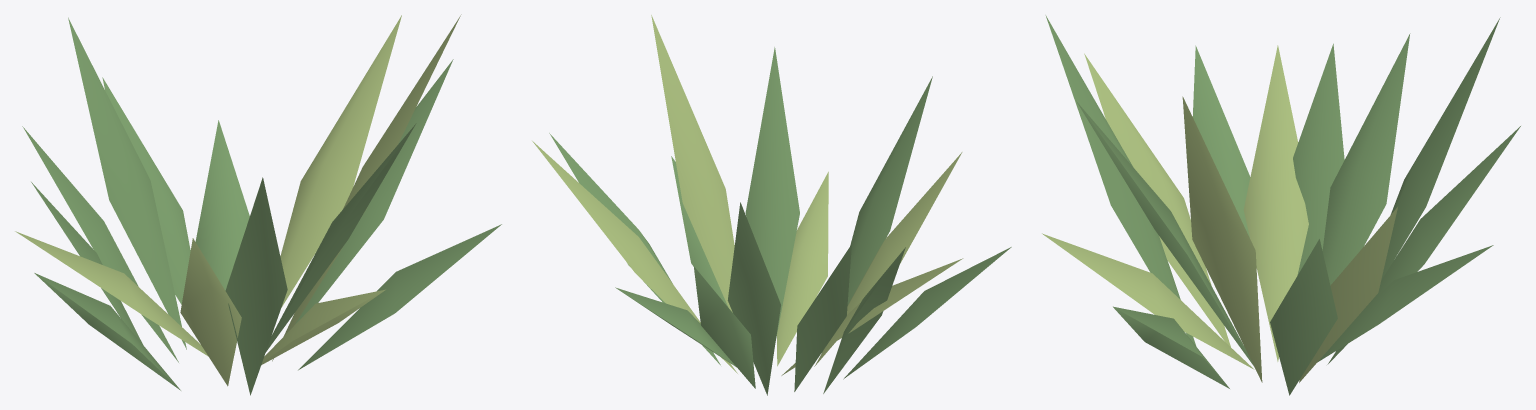
Rendered from plant-grass-mossy.glb.
3 renders of one model, left to right at view 1: azimuth 30°, elevation 25°; view 2: azimuth 150°, elevation 25°; view 3: azimuth 270°, elevation 25°, orthographic. The views are drawn at different scales.
Parts seen in each view (by area): view 1: plant-grass-kit-mossy-green, plant-grass-kit-mossy-leaf; view 2: plant-grass-kit-mossy-green, plant-grass-kit-mossy-leaf; view 3: plant-grass-kit-mossy-green, plant-grass-kit-mossy-leaf.
Boxes of the visible parts, x1,y1,x2,y2 form: plant-grass-kit-mossy-green: [22, 17, 501, 395]; plant-grass-kit-mossy-leaf: [15, 14, 461, 386]; plant-grass-kit-mossy-green: [549, 47, 1011, 395]; plant-grass-kit-mossy-leaf: [532, 15, 963, 375]; plant-grass-kit-mossy-green: [1045, 15, 1520, 395]; plant-grass-kit-mossy-leaf: [1042, 45, 1397, 382].
Bounding box in the file's own units: 1.23 × 0.8332 × 0.9818.
